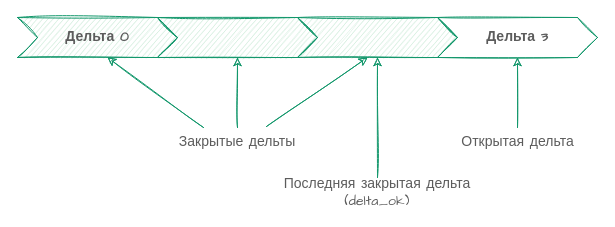
Some shapes in this 615 by 227 pixel diagram are drawn without their labels. Here are the shapes that lost their labels. From the top down, the centre of each, then its label:
At pixel 237 37: "Дельта 1".
At pixel 377 37: "Дельта 2".
